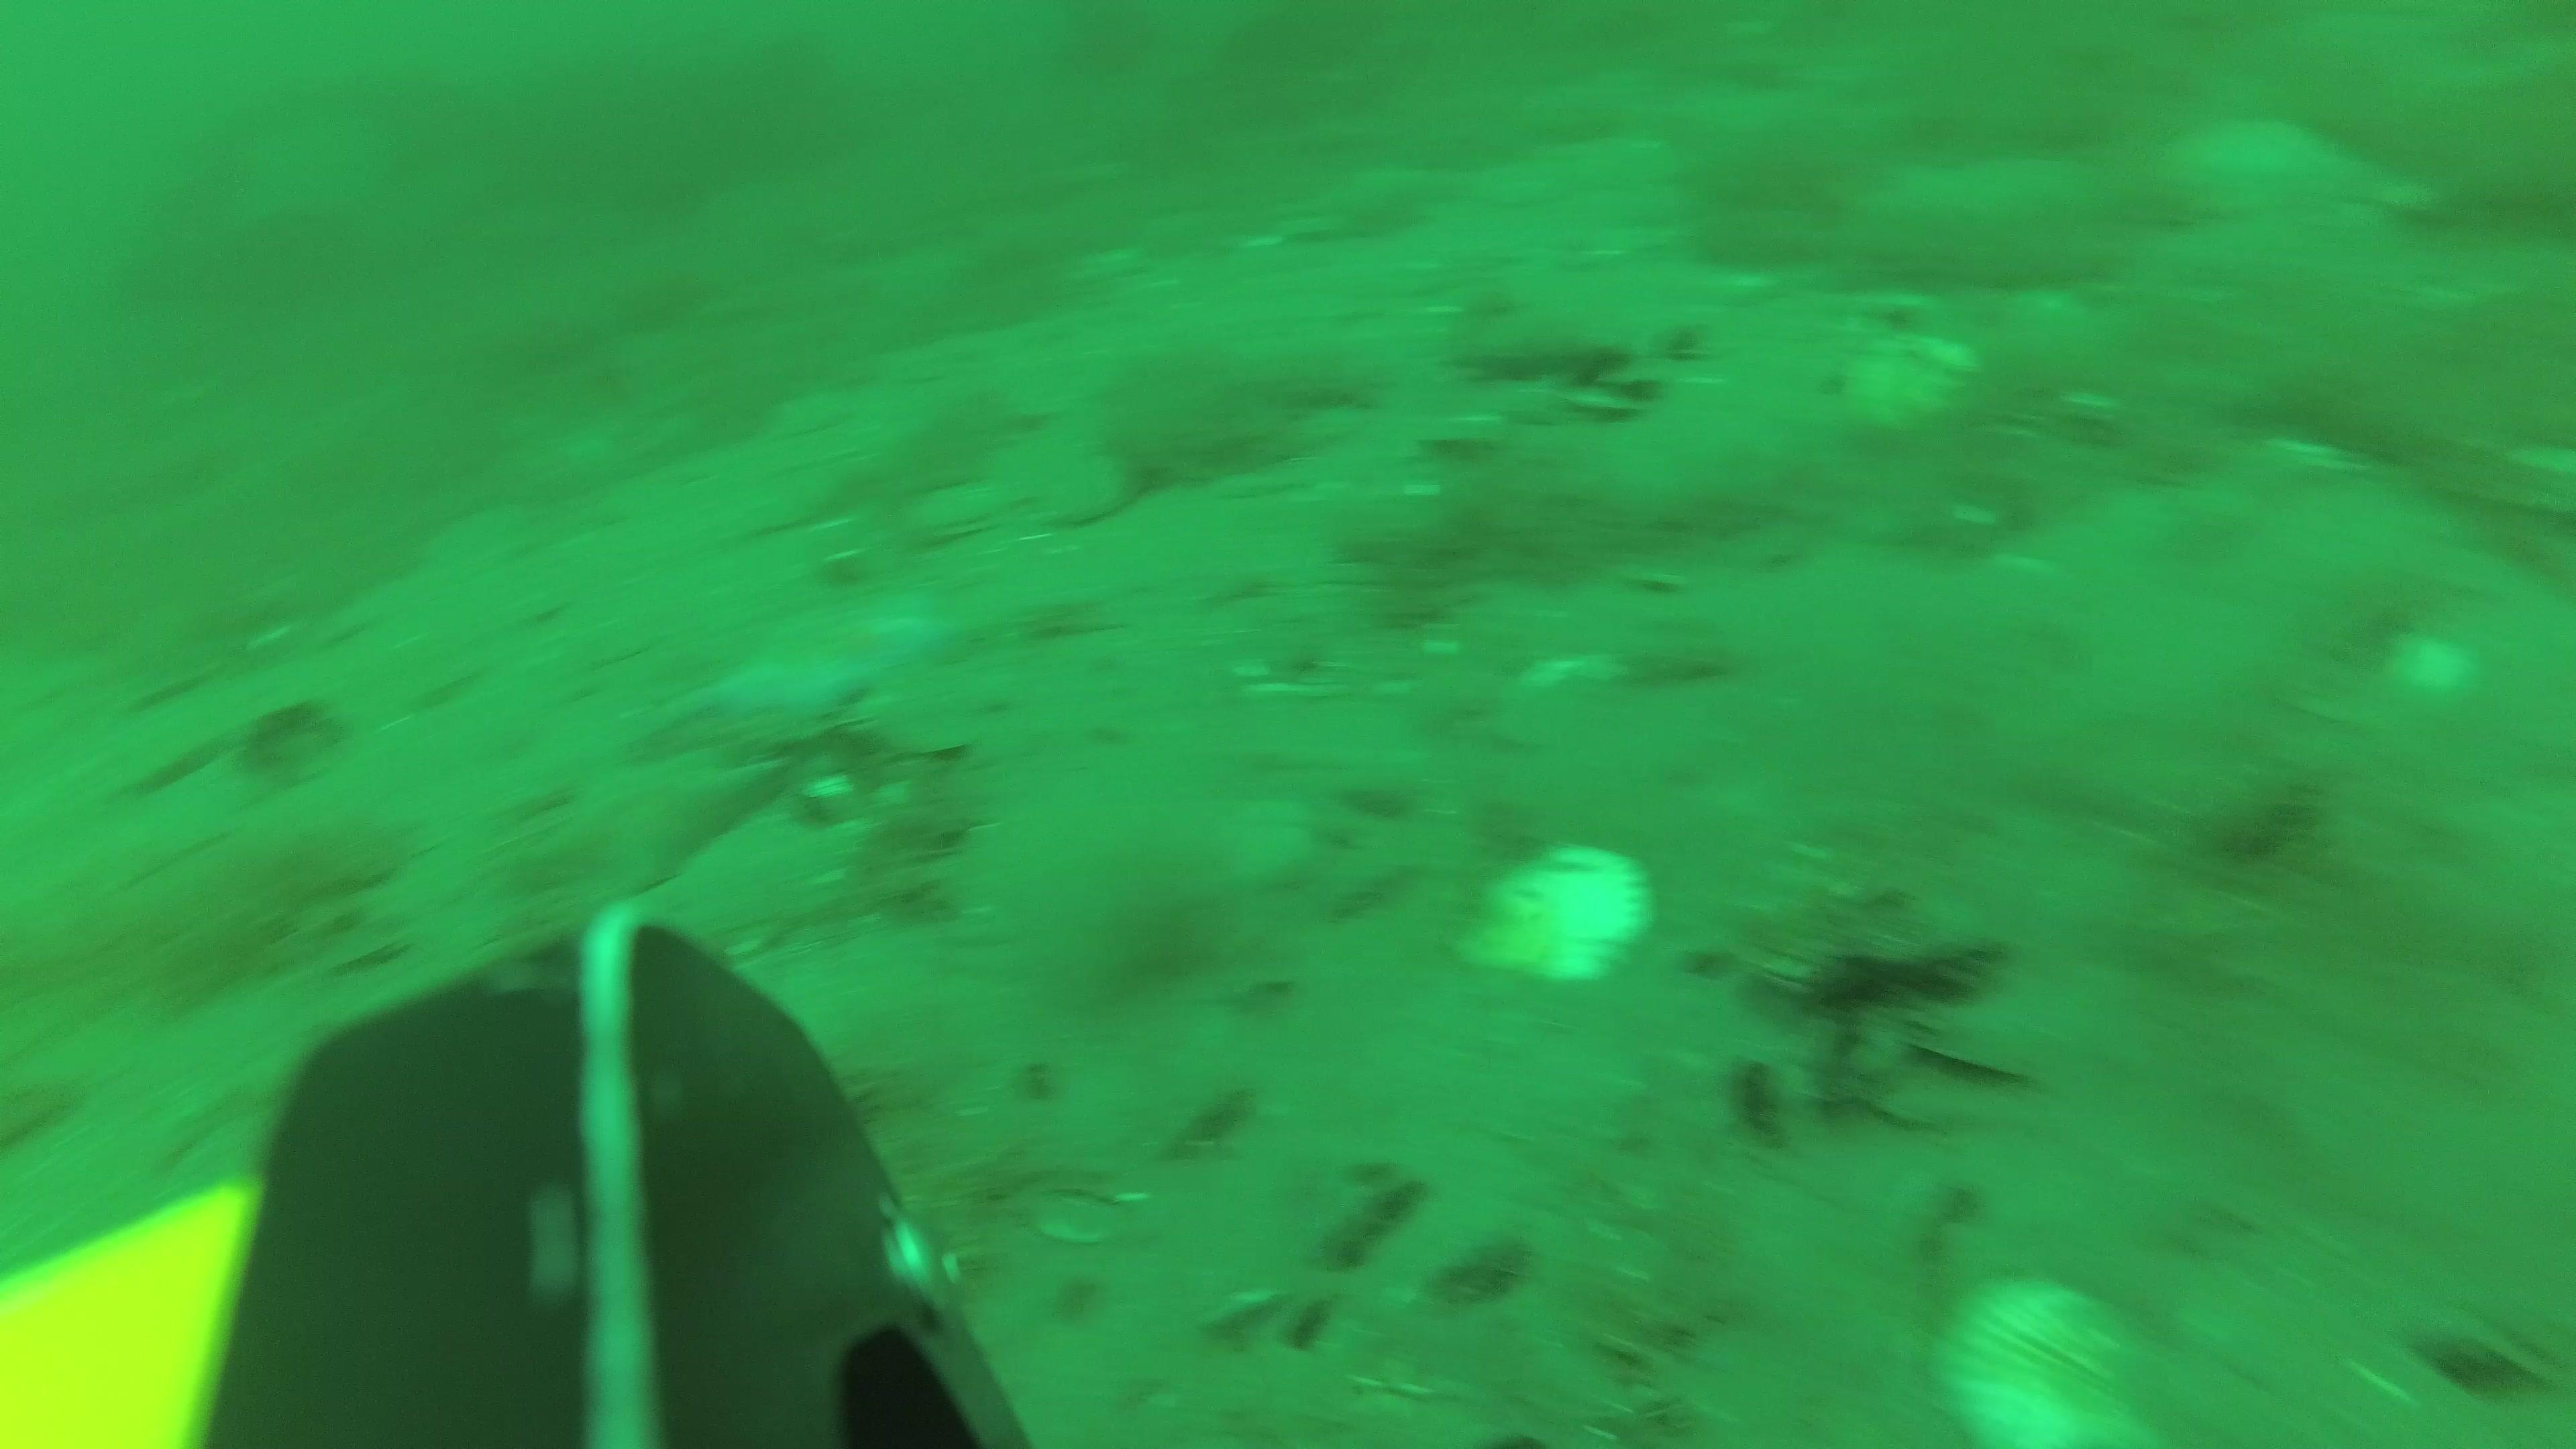scallop: (1934, 1274, 2130, 1449), (1470, 853, 1654, 984), (1865, 331, 1974, 432), (1502, 660, 1619, 752), (1042, 453, 1138, 533), (1224, 805, 1311, 881), (916, 483, 1010, 545)
starfish: (656, 596, 957, 732), (518, 747, 782, 888), (2151, 120, 2376, 212)
